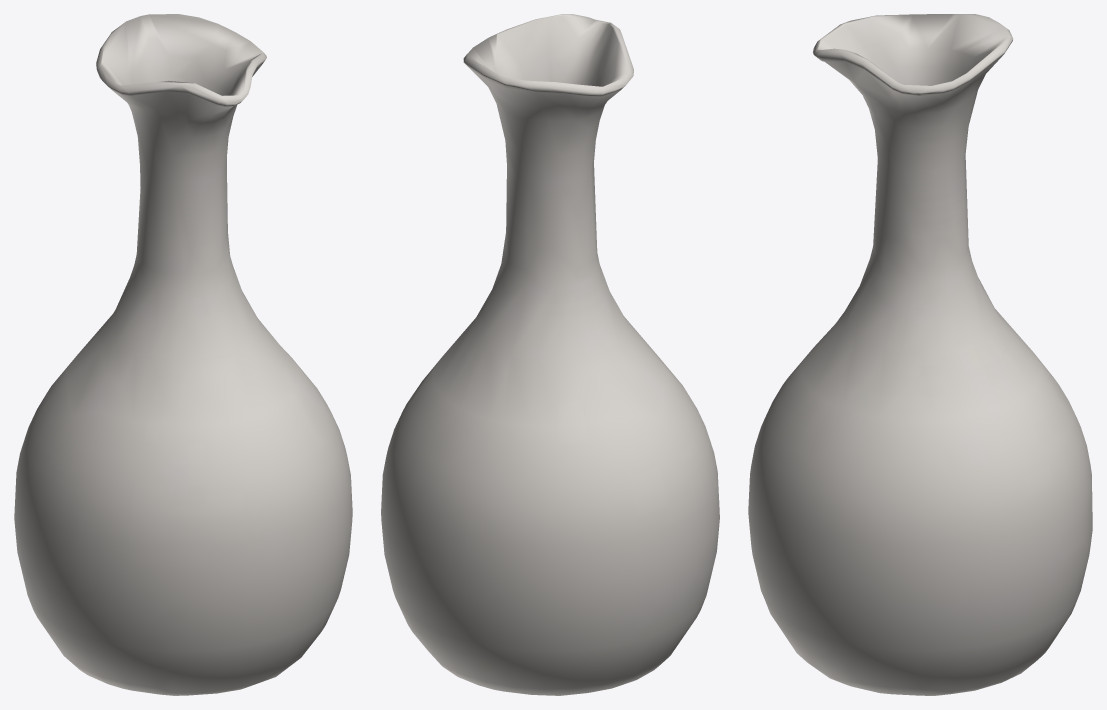
File: ceramic_vase_01.glb
3 renders of one model, left to right at view 1: azimuth 30°, elevation 25°; view 2: azimuth 150°, elevation 25°; view 3: azimuth 270°, elevation 25°, orthographic.
Visible parts, largest first — view 1: ceramic_vase_01; view 2: ceramic_vase_01; view 3: ceramic_vase_01.
Part boxes in pixels (x1=…): ceramic_vase_01: x1=14, y1=14, x2=352, y2=695; ceramic_vase_01: x1=381, y1=14, x2=719, y2=695; ceramic_vase_01: x1=748, y1=14, x2=1092, y2=695.
Size of the model in its own units: 0.2036 by 0.4002 by 0.2031.
1 material, 1 textured.
